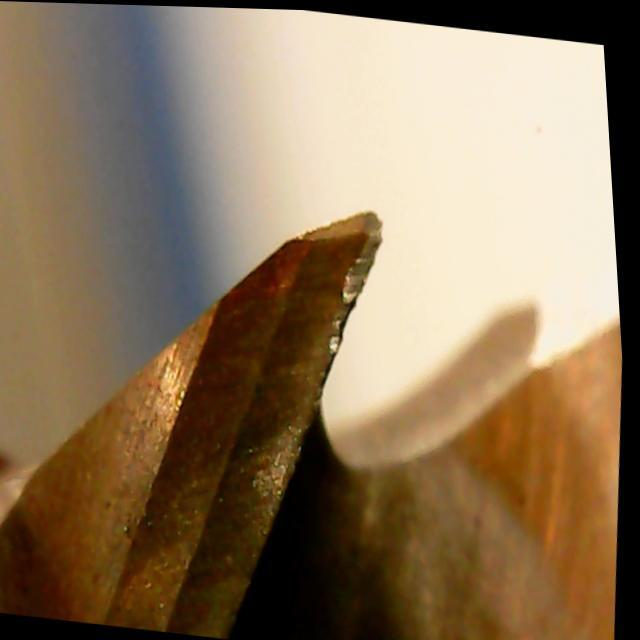Tool-wear-class-1: (221, 181, 432, 469)
